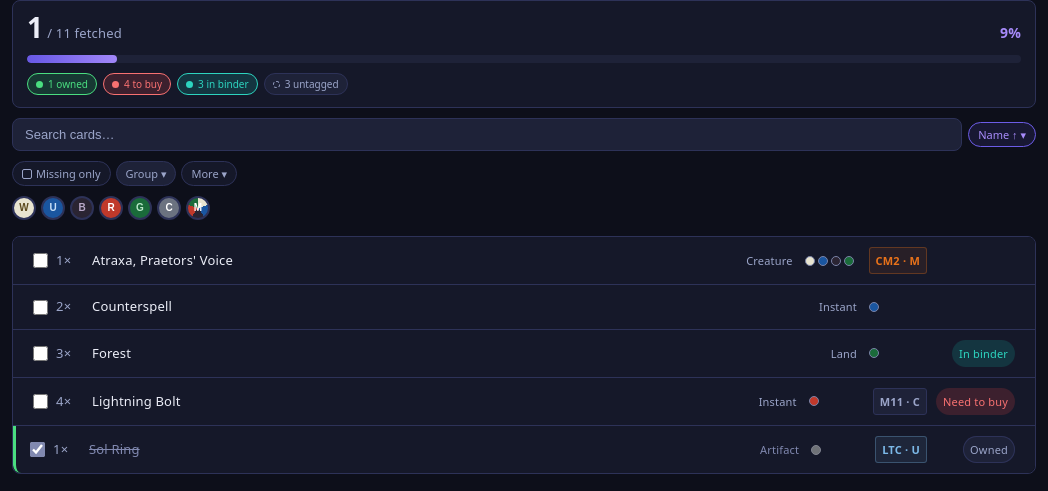
it: Checklist — filtering, sorting, grouping › search matches name, alternate input name and type
Type "counter spell" into the search field with placeholder "Search cards…". click: (487, 135)
box: [12, 118, 962, 151]
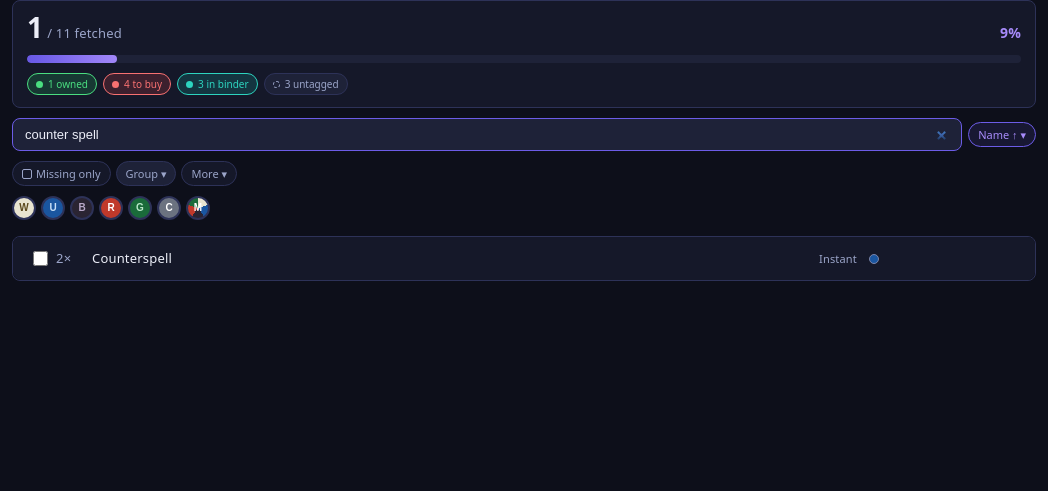
Replace the text in the search field with placeholder "Search cards…" with "phyrexian". click: (487, 135)
box: [12, 118, 962, 151]
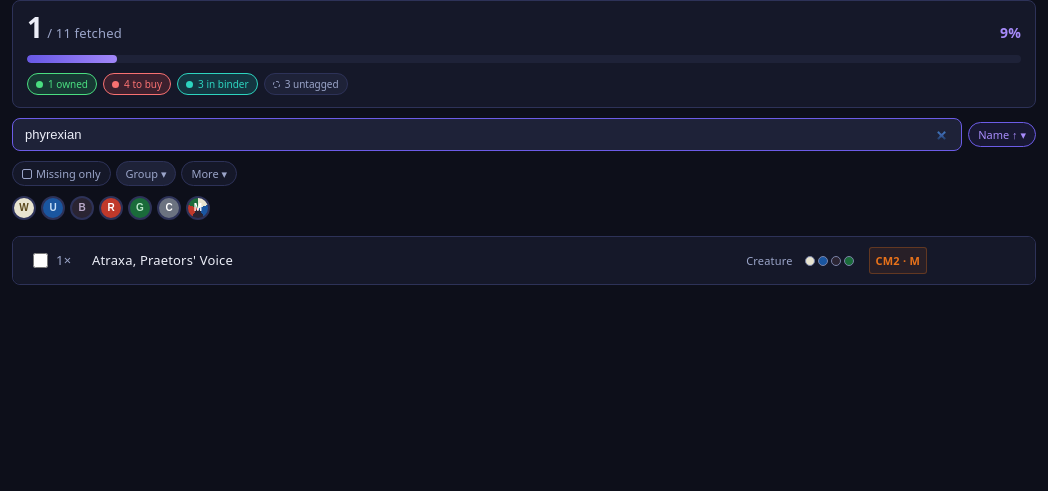
Replace the text in the search field with placeholder "Search cards…" with "zzz". click: (487, 135)
box: [12, 118, 962, 151]
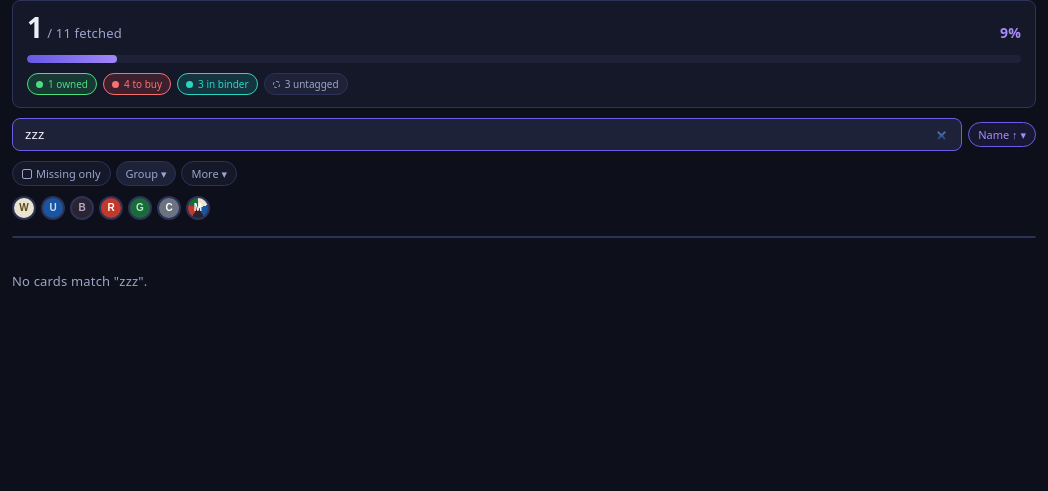
Result: the text "No cards match \"zzz\"." is shown at [12, 272, 147, 290]
